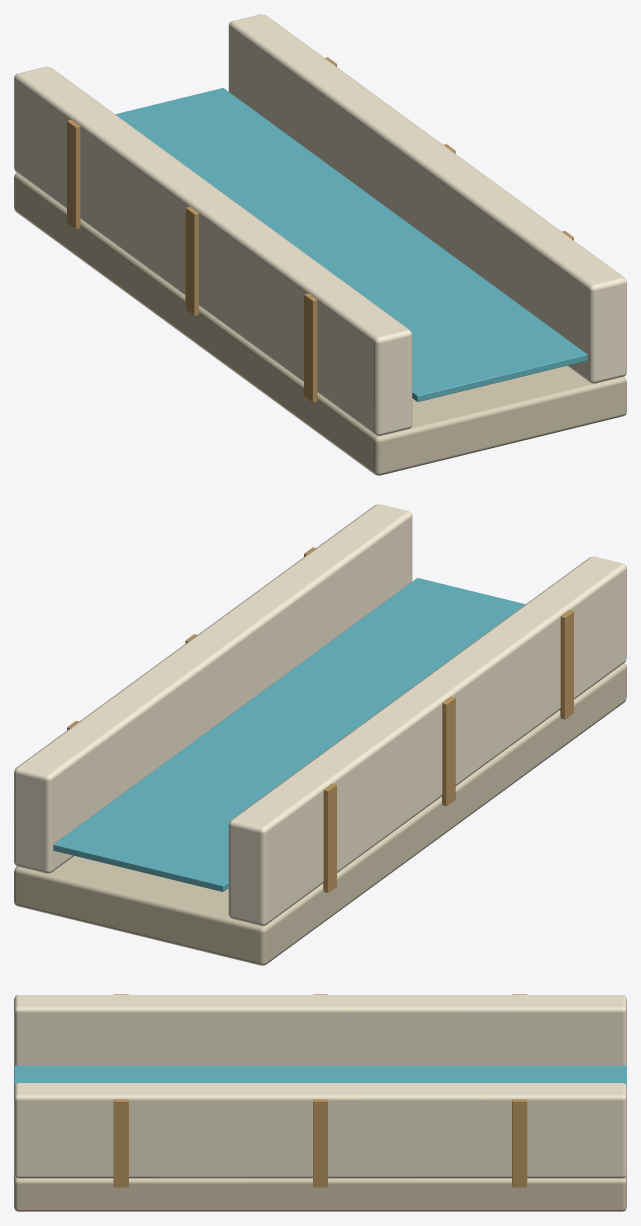
Rendered from fantasy-bathhouse-and-thermal-sanctuary-fantasy-bathho-bfe232ff__29441.glb.
3 views of the same model, one above another, from view 1: azimuth 30°, elevation 25°; view 2: azimuth 150°, elevation 25°; view 3: azimuth 270°, elevation 25° (orthographic). The views are drawn at different scales.
Visible parts, largest first — view 1: fantasy-bathhouse-and-thermal-sanctuary-aqueduct-channel-str (×4); view 2: fantasy-bathhouse-and-thermal-sanctuary-aqueduct-channel-str (×4); view 3: fantasy-bathhouse-and-thermal-sanctuary-aqueduct-channel-str (×4).
Part boxes in pixels (x1=…): fantasy-bathhouse-and-thermal-sanctuary-aqueduct-channel-str (×4): x1=14, y1=14, x2=626, y2=475; fantasy-bathhouse-and-thermal-sanctuary-aqueduct-channel-str (×4): x1=14, y1=504, x2=626, y2=965; fantasy-bathhouse-and-thermal-sanctuary-aqueduct-channel-str (×4): x1=14, y1=994, x2=626, y2=1211.
Size of the model in its own units: 0.828 by 0.42 by 2.
